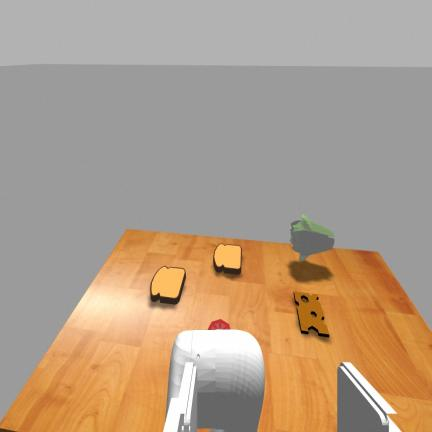cheese: (294, 292, 329, 336)
lettuce: (290, 215, 334, 261)
sliced_bread: (151, 266, 185, 304), (214, 244, 241, 274)
sliced_tomato: (209, 319, 230, 329)
